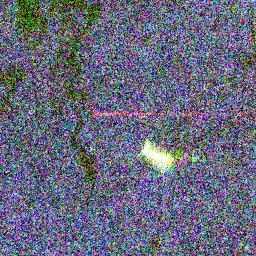Ship: (140, 139, 178, 170)
